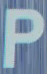Parking: (4, 2, 43, 69)
